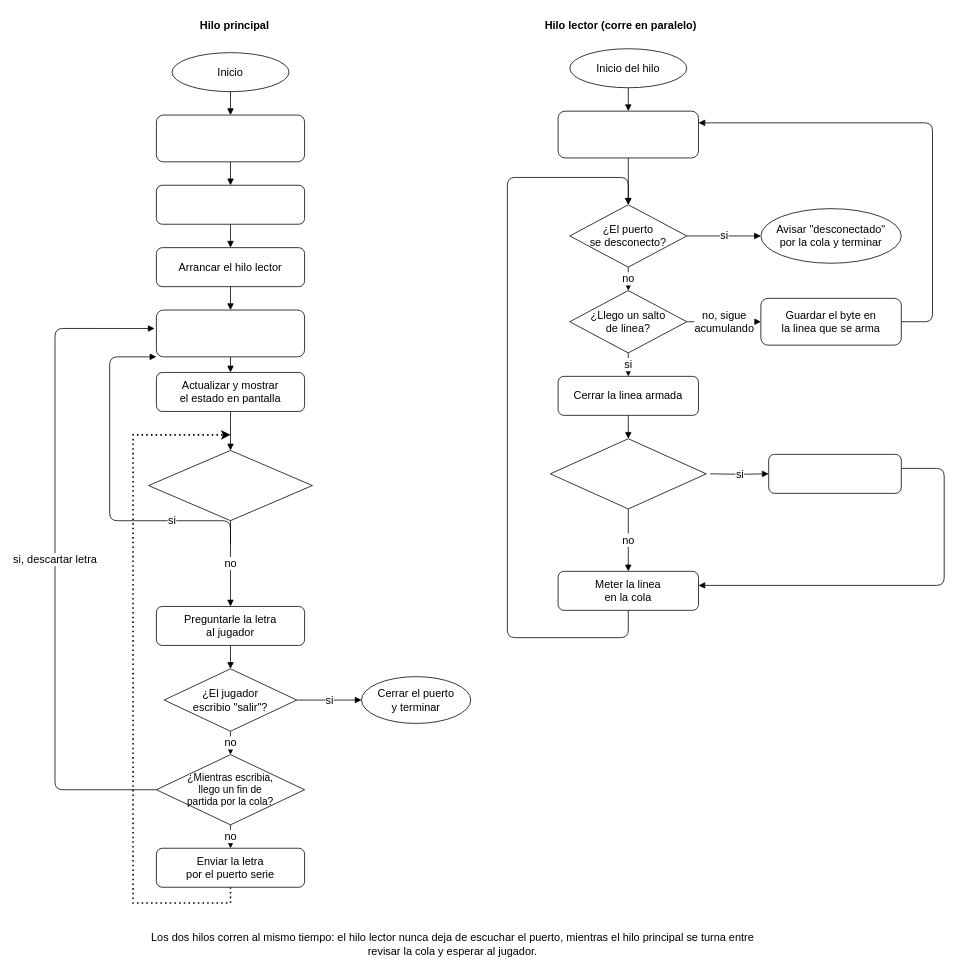
This 964x971 diagram has some shape labels left out. Here are the shapes that lost their labels. From the top down, the box of each, then its label:
(156, 114, 305, 162): Leer opciones (--port, --baud, --list)
(557, 110, 698, 158): Leer los bytes que haya en el puerto
(156, 184, 305, 224): Abrir el puerto serie
(156, 309, 305, 357): Sacar una linea de la cola y traducirla (parsear)
(148, 450, 312, 521): ¿Sigue habiendo lineas en la cola, o aun no es el turno del jugador?
(550, 438, 706, 509): ¿La linea es un fin de partida (END) y el jugador esta escribiendo su letra?
(768, 454, 901, 493): Avisar de inmediato en pantalla
